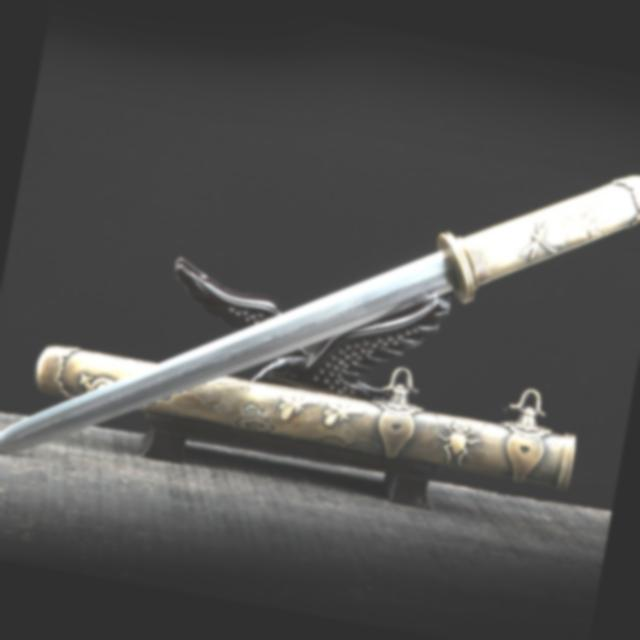short sword: (0, 67, 640, 571)
